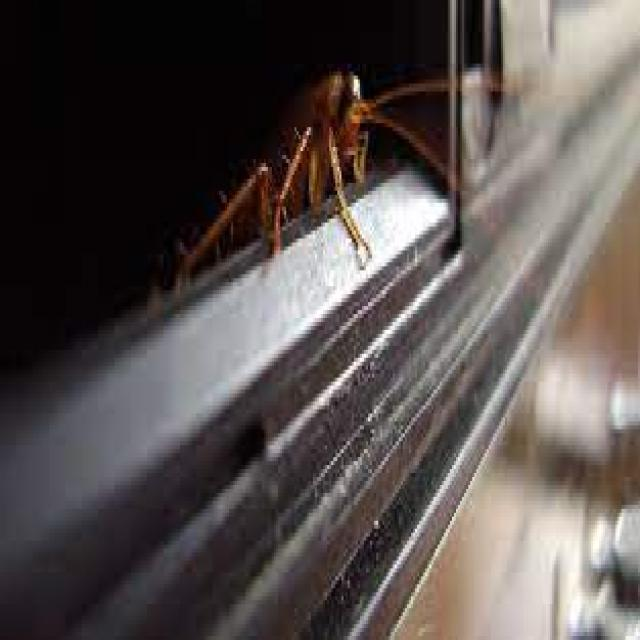Cockroach: (162, 0, 468, 313)
